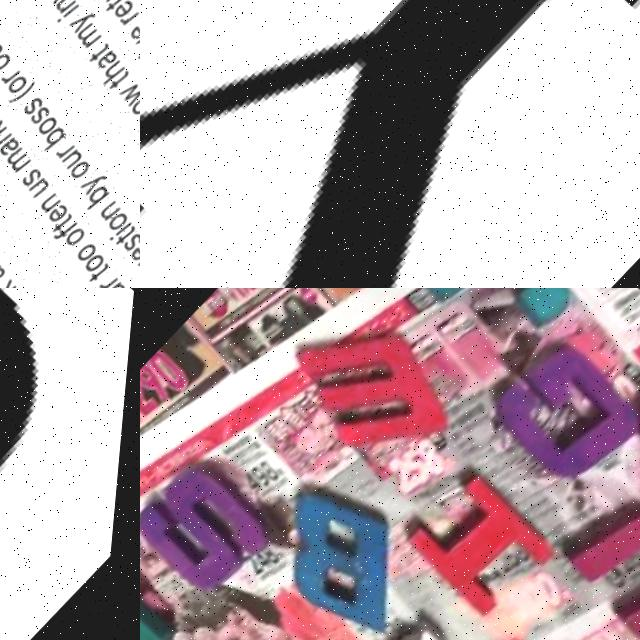B: (243, 459, 449, 640)
D: (140, 548, 185, 640)
G: (480, 332, 640, 504)
I: (404, 469, 568, 630)
J: (408, 288, 586, 372)
S: (140, 450, 284, 603)
U: (0, 288, 140, 640), (553, 484, 640, 640)
W: (272, 296, 477, 495)
Y: (140, 0, 640, 288)
